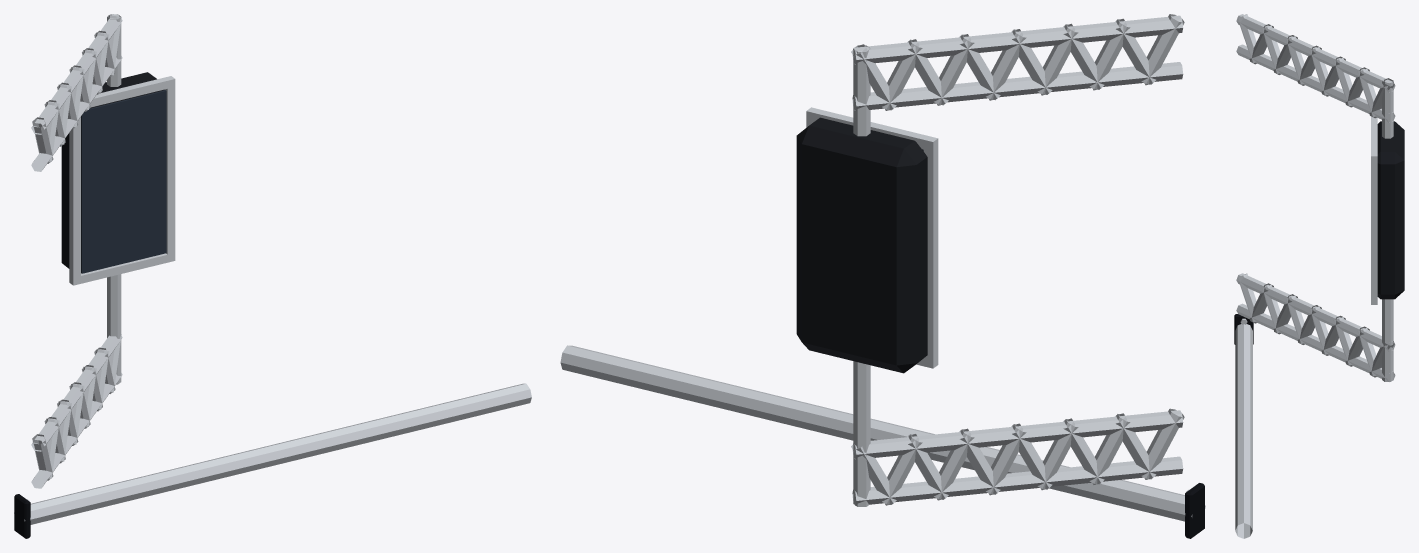
Rendered from mirror_stay_truss.glb.
3 views of the same model, side by side, from view 1: azimuth 30°, elevation 25°; view 2: azimuth 150°, elevation 25°; view 3: azimuth 270°, elevation 25° (orthographic). The views are drawn at different scales.
Visible parts, largest first — view 1: mirror_stay_truss_chrome, mirror_stay_truss_deco_mirror, mirror_stay_truss_PADS_chrome, mirror_stay_truss_deco_body, mirror_stay_truss_PADF_deco_trim; view 2: mirror_stay_truss_chrome, mirror_stay_truss_deco_body, mirror_stay_truss_PADS_chrome, mirror_stay_truss_PADF_deco_trim; view 3: mirror_stay_truss_chrome, mirror_stay_truss_deco_body, mirror_stay_truss_PADS_chrome.
Boxes of the visible parts, <box> form: mirror_stay_truss_chrome: <box>31,14,175,488</box>; mirror_stay_truss_deco_mirror: <box>81,90,166,273</box>; mirror_stay_truss_PADS_chrome: <box>14,383,531,524</box>; mirror_stay_truss_deco_body: <box>61,72,164,268</box>; mirror_stay_truss_PADF_deco_trim: <box>14,494,30,538</box>; mirror_stay_truss_chrome: <box>806,14,1184,506</box>; mirror_stay_truss_deco_body: <box>796,117,927,373</box>; mirror_stay_truss_PADS_chrome: <box>560,345,1205,521</box>; mirror_stay_truss_PADF_deco_trim: <box>1185,483,1204,538</box>; mirror_stay_truss_chrome: <box>1236,14,1395,382</box>; mirror_stay_truss_deco_body: <box>1377,121,1404,299</box>; mirror_stay_truss_PADS_chrome: <box>1235,324,1252,538</box>.
Size of the model in its own units: 1 by 0.7764 by 0.355.
